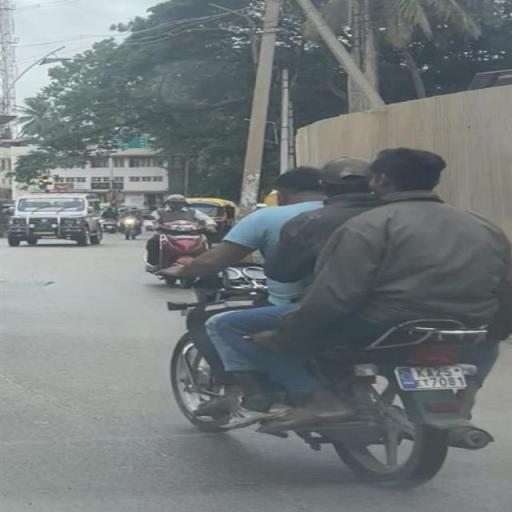tripple riding: (173, 145, 512, 344)
